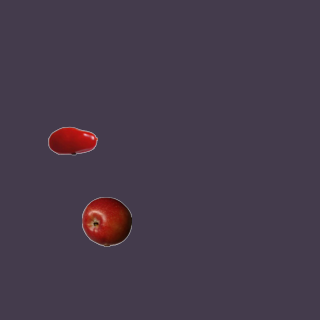Apple Braeburn: (81, 196, 131, 246)
Tomato 2: (47, 115, 97, 165)
